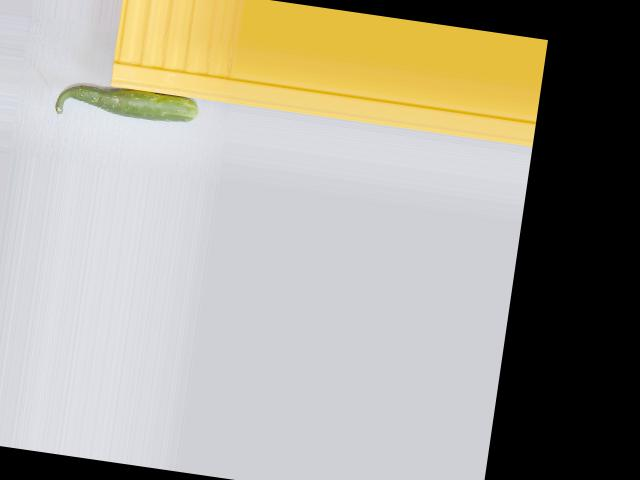cucumber: (53, 78, 199, 133)
